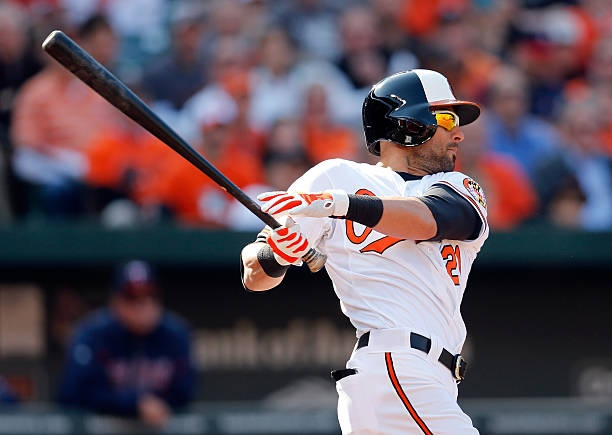bita: (45, 28, 324, 267)
